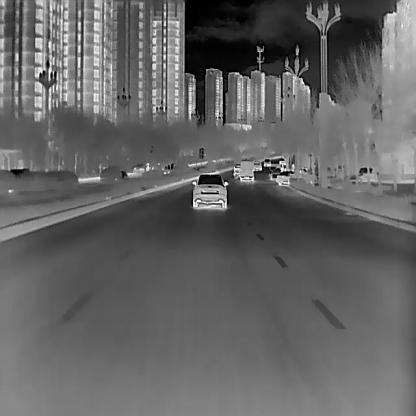car: (192, 171, 228, 209), (275, 168, 302, 184), (239, 158, 254, 180), (253, 159, 261, 171), (233, 162, 240, 174), (263, 158, 271, 166)
